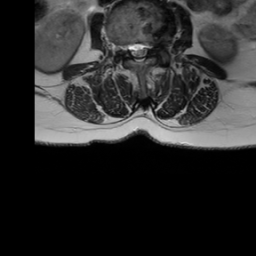CCS_normal: (135, 34, 142, 69)
LFS_severe_stenosis: (148, 34, 154, 56)
LLS_stenosis: (142, 34, 148, 63)
RFS_stenosis: (120, 36, 127, 60)
RLS_stenosis: (127, 37, 135, 61)
